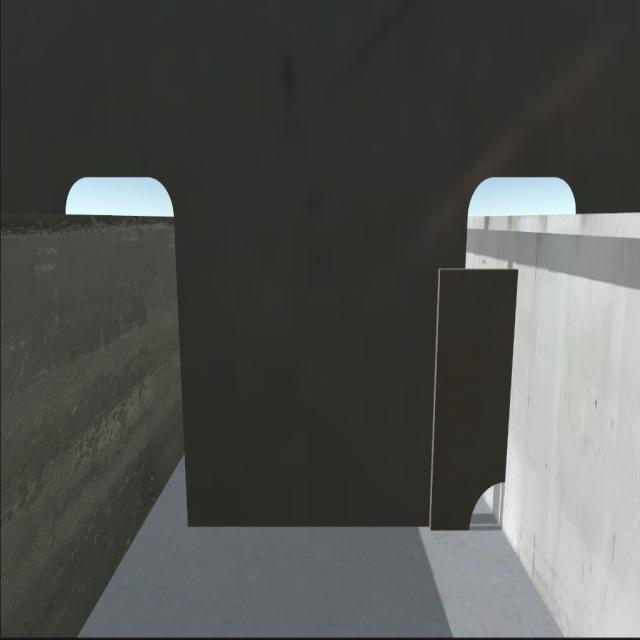fillet_hole: (467, 479, 504, 524)
fillet_yong_jeop_jang: (176, 512, 487, 535)
longi_yong_jeop_jang: (504, 263, 511, 485)
plate_CP01: (430, 260, 510, 522)
